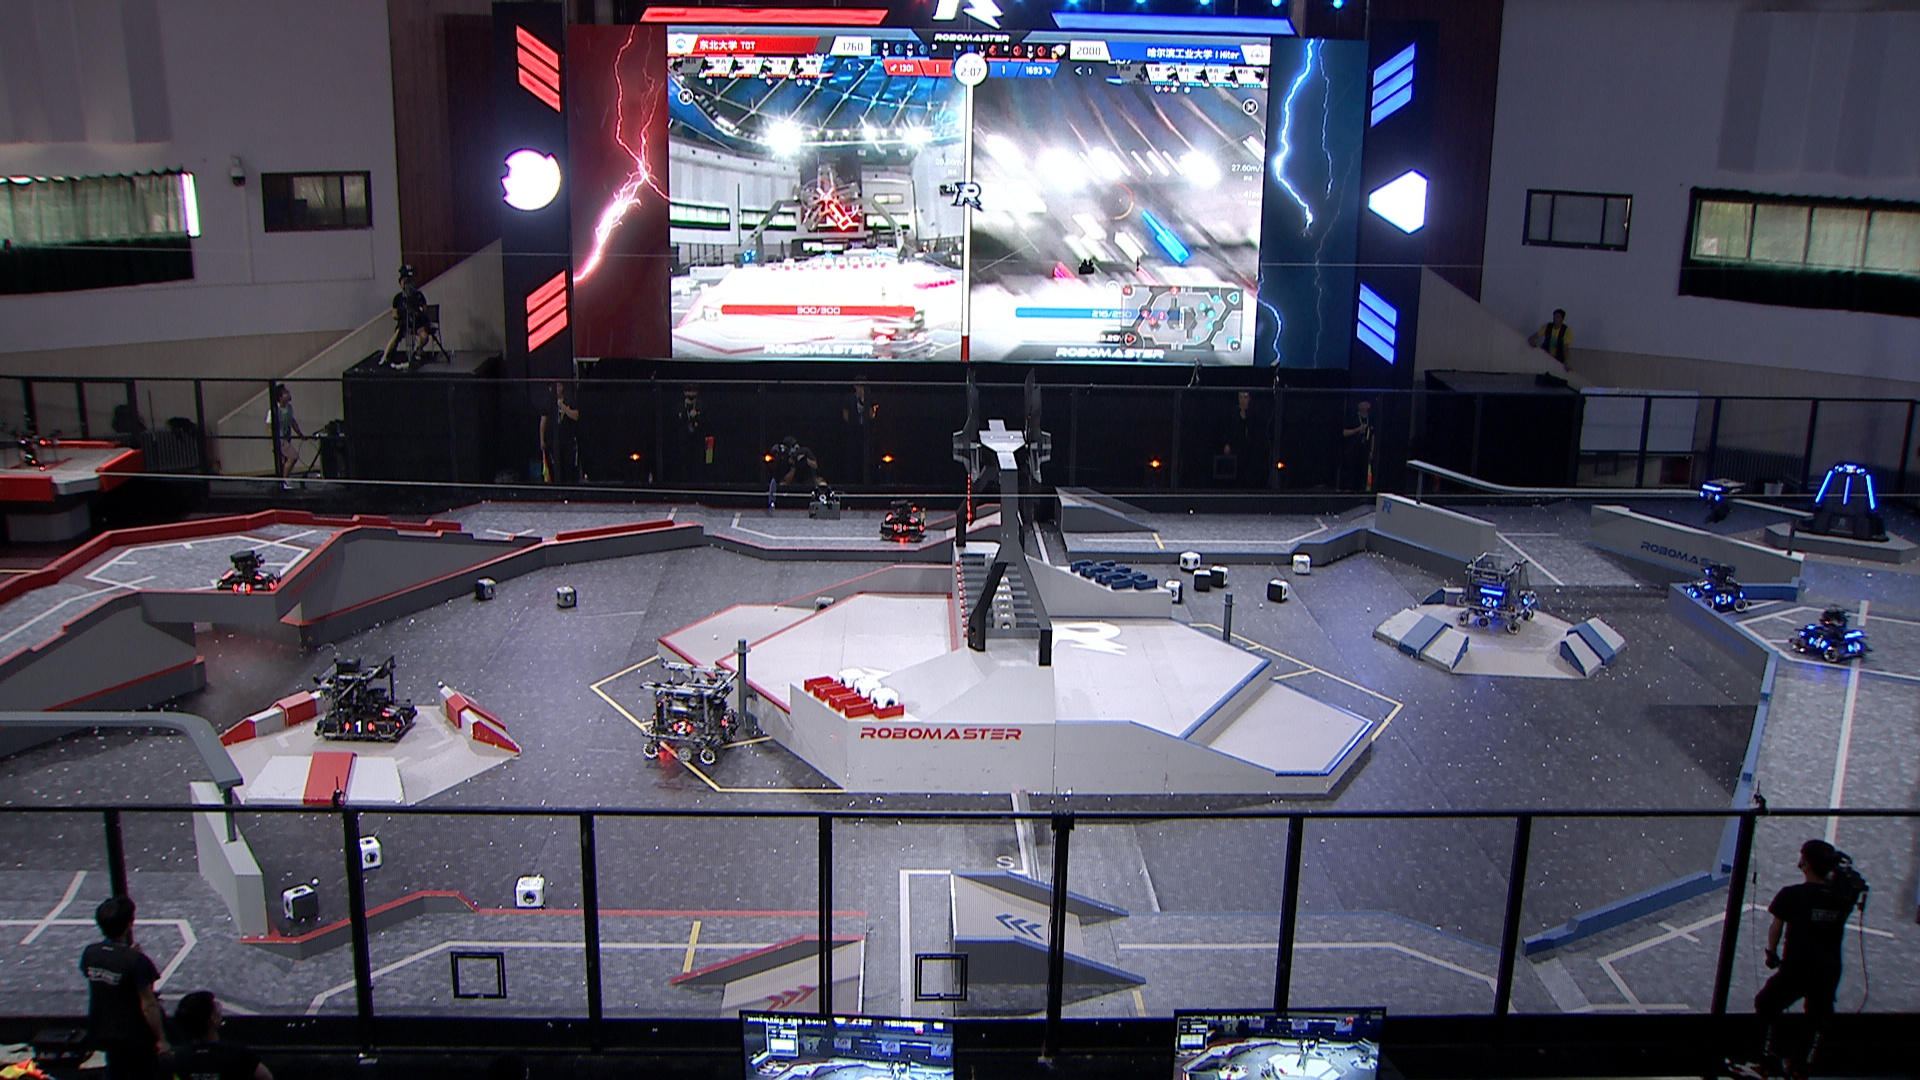armor: (1811, 469, 1836, 505), (1861, 472, 1876, 512), (340, 717, 376, 735), (1840, 473, 1855, 506), (667, 719, 694, 736), (378, 699, 400, 719), (1477, 593, 1501, 611), (1697, 488, 1724, 502), (1709, 589, 1733, 605), (392, 711, 410, 731), (228, 579, 253, 593), (1837, 462, 1863, 475), (251, 566, 272, 582), (1808, 636, 1830, 650), (261, 575, 280, 591), (1845, 640, 1865, 654), (717, 712, 735, 727), (889, 522, 909, 534), (905, 510, 920, 524), (1807, 618, 1822, 632), (1687, 584, 1698, 600), (1520, 593, 1534, 607), (1697, 578, 1712, 589)
base: (1789, 458, 1892, 546)
car: (638, 662, 745, 765), (310, 646, 419, 745), (1456, 550, 1539, 633), (1787, 603, 1870, 666), (214, 545, 286, 597), (1683, 564, 1751, 615), (878, 498, 931, 547)
watcher: (1692, 472, 1747, 527)
